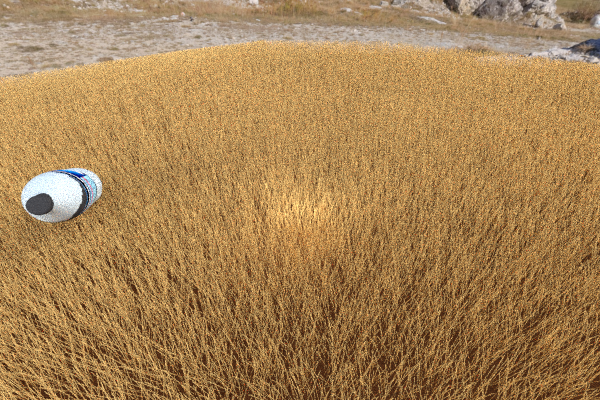bottle: (21, 168, 102, 222)
can: (171, 72, 196, 99)
